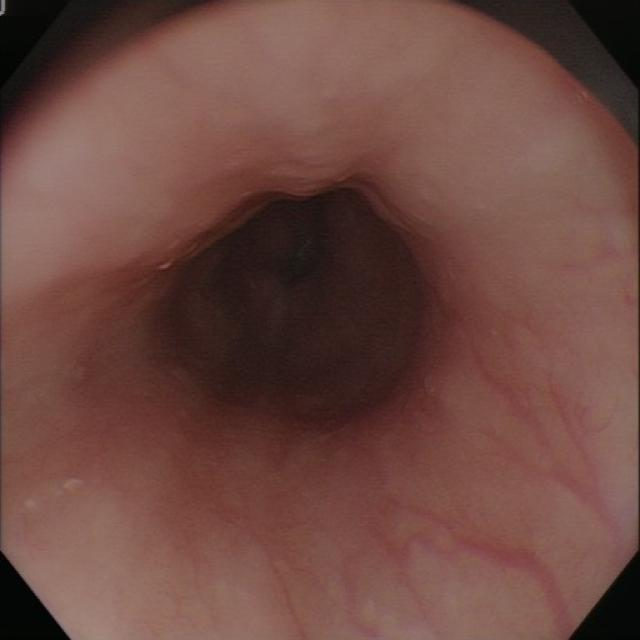E: (164, 169, 429, 432)
J: (21, 472, 87, 513)
